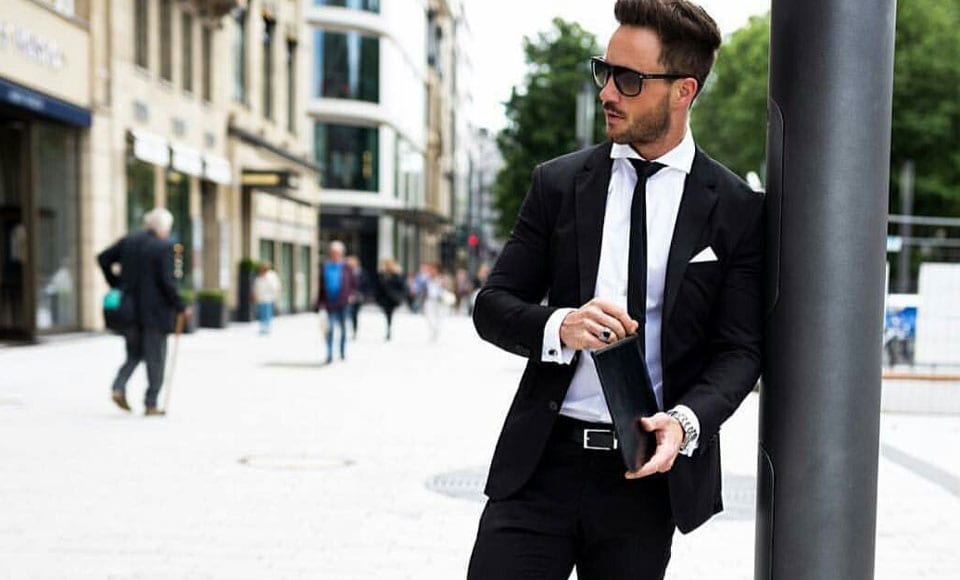F_M_suit jacket: (480, 149, 771, 518)
F_belt: (537, 410, 631, 456)
F_tie: (613, 150, 660, 415)
